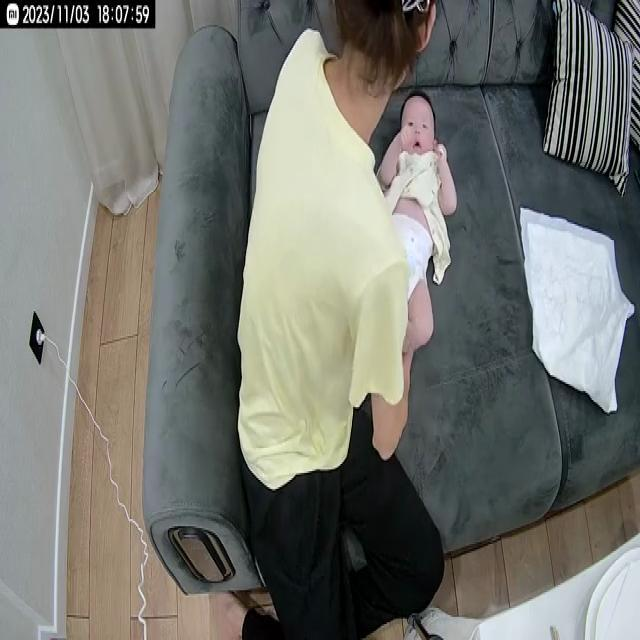baby: (373, 87, 461, 360)
